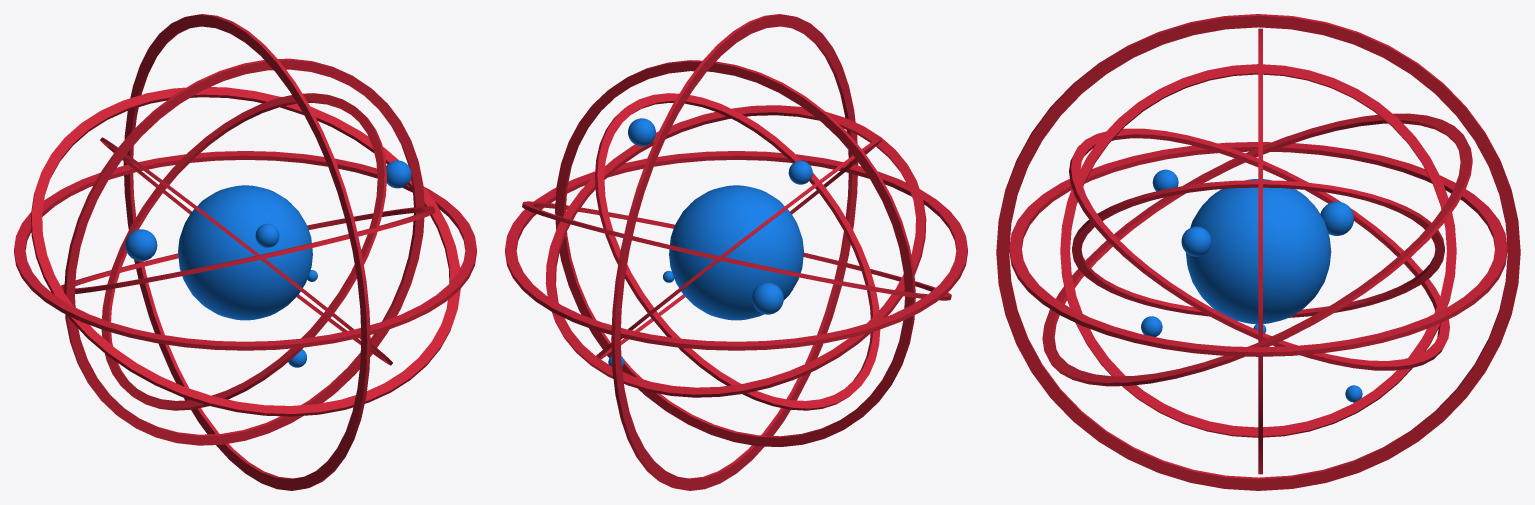
File: Orrery.fbx
The picture shows the model from 3 angles, left to right: view 1: azimuth 30°, elevation 25°; view 2: azimuth 150°, elevation 25°; view 3: azimuth 270°, elevation 25°; orthographic projection. The views are drawn at different scales.
Parts seen in each view (by area): view 1: Sphere001, Cylinder004, Cylinder008, Cylinder005, Cylinder001, Cylinder006, Cylinder009, Cylinder007, Sphere002, Sphere007; view 2: Sphere001, Cylinder004, Cylinder005, Cylinder001, Cylinder009, Cylinder006, Cylinder008, Cylinder007, Sphere002, Sphere007; view 3: Cylinder005, Sphere001, Cylinder001, Cylinder007, Cylinder008, Cylinder009, Cylinder006, Cylinder004, Sphere002, Sphere007.
Boxes of the visible parts, left/top/right/bottom form: Sphere001: left=178, top=185, right=312, bottom=320; Cylinder004: left=64, top=58, right=424, bottom=445; Cylinder008: left=31, top=87, right=460, bottom=416; Cylinder005: left=123, top=14, right=370, bottom=490; Cylinder001: left=14, top=151, right=476, bottom=350; Cylinder006: left=101, top=93, right=386, bottom=410; Cylinder009: left=61, top=206, right=434, bottom=293; Cylinder007: left=100, top=137, right=392, bottom=365; Sphere002: left=125, top=229, right=157, bottom=261; Sphere007: left=386, top=160, right=411, bottom=188; Sphere001: left=669, top=185, right=803, bottom=320; Cylinder004: left=555, top=60, right=915, bottom=446; Cylinder005: left=611, top=14, right=858, bottom=490; Cylinder001: left=505, top=151, right=967, bottom=350; Cylinder009: left=545, top=105, right=926, bottom=397; Cylinder006: left=595, top=93, right=880, bottom=410; Cylinder008: left=522, top=201, right=951, bottom=300; Cylinder007: left=596, top=137, right=881, bottom=359; Sphere002: left=752, top=282, right=783, bottom=314; Sphere007: left=628, top=118, right=655, bottom=146; Cylinder005: left=996, top=14, right=1520, bottom=490; Sphere001: left=1186, top=179, right=1331, bottom=324; Cylinder001: left=1009, top=142, right=1507, bottom=356; Cylinder007: left=1060, top=64, right=1456, bottom=437; Cylinder008: left=1042, top=113, right=1472, bottom=386; Cylinder009: left=1069, top=128, right=1449, bottom=370; Cylinder006: left=1072, top=180, right=1444, bottom=317; Cylinder004: left=1258, top=28, right=1262, bottom=474; Sphere002: left=1320, top=201, right=1353, bottom=235; Sphere007: left=1181, top=226, right=1211, bottom=256.
Size of the model in its own units: 455 by 478 by 478.
